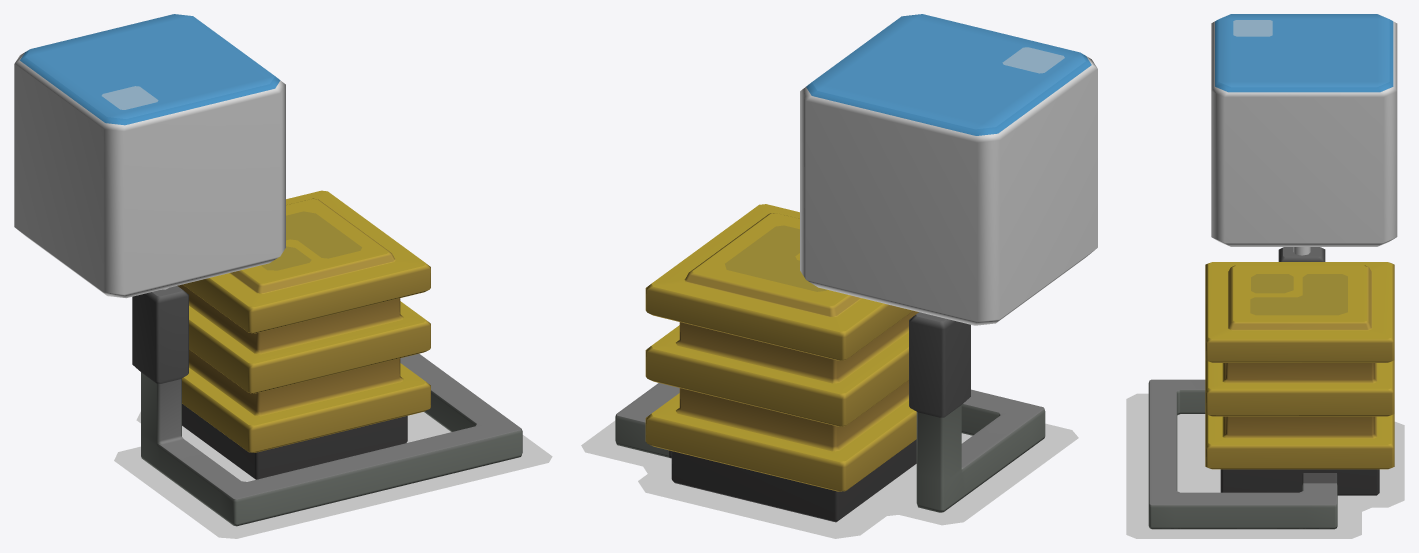
Rendered from MG_special_ballon_02.fbx.
3 views of the same model, side by side, from view 1: azimuth 30°, elevation 25°; view 2: azimuth 150°, elevation 25°; view 3: azimuth 270°, elevation 25° (orthographic). The views are drawn at different scales.
Visible parts, largest first — view 1: polySurface13, polySurface2, polySurface12, polySurface6, polySurface1, ground; view 2: polySurface13, polySurface4, polySurface6, polySurface1, polySurface12, ground, polySurface5; view 3: polySurface13, polySurface3, polySurface6, polySurface12, ground, polySurface4, polySurface2.
Boxes of the visible parts, box(x1,y1,x2,y2) form: polySurface13: box(177, 190, 430, 479); polySurface2: box(113, 85, 283, 296); polySurface12: box(132, 286, 522, 526); polySurface6: box(20, 14, 280, 125); polySurface1: box(14, 57, 114, 295); ground: box(114, 411, 552, 538); polySurface13: box(645, 204, 918, 522); polySurface4: box(803, 91, 988, 323); polySurface6: box(806, 14, 1091, 135); polySurface1: box(987, 61, 1097, 322); polySurface12: box(615, 312, 1045, 512); ground: box(581, 420, 1078, 538); polySurface5: box(813, 254, 1089, 325); polySurface13: box(1205, 262, 1394, 495); polySurface3: box(1218, 89, 1390, 244); polySurface6: box(1215, 14, 1393, 92); polySurface12: box(1148, 247, 1337, 529); ground: box(1126, 393, 1404, 538); polySurface4: box(1387, 21, 1397, 241); polySurface2: box(1211, 21, 1220, 241).
Size of the model in its own units: 4.36 by 4.15 by 2.94.
